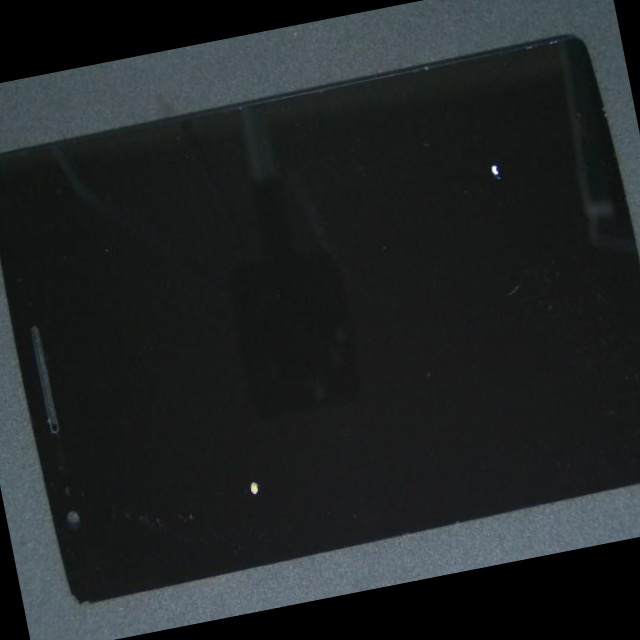stain: (170, 99, 640, 365), (29, 292, 380, 640)
